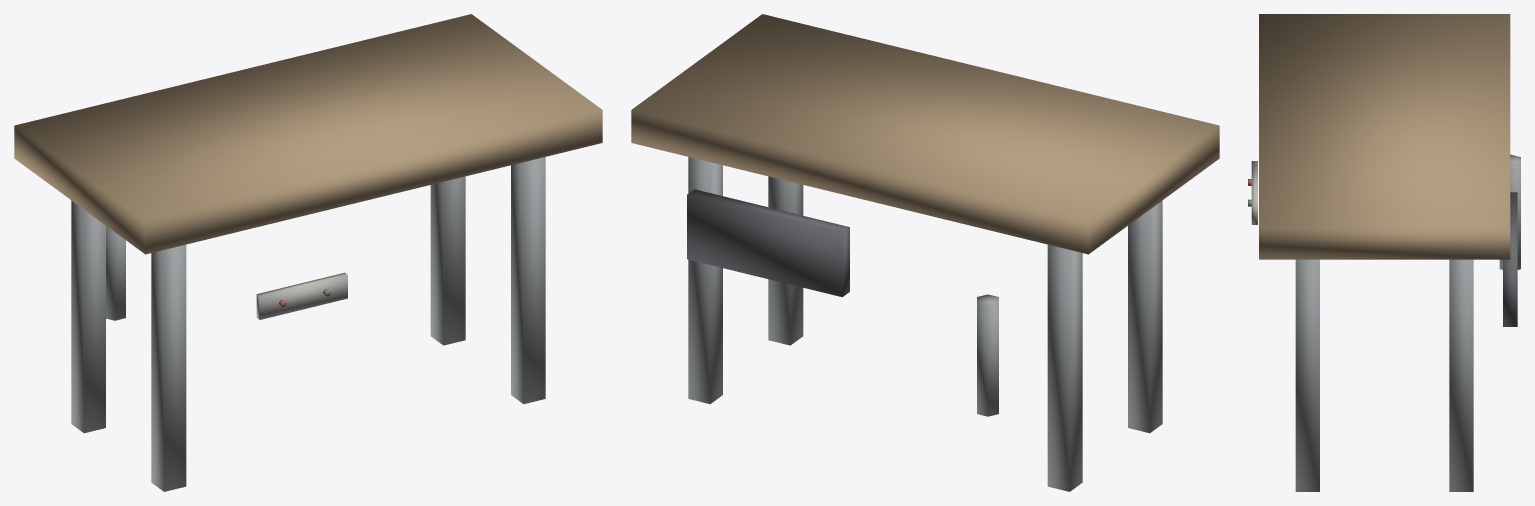
Rendered from workbench__service.glb.
3 renders of one model, left to right at view 1: azimuth 30°, elevation 25°; view 2: azimuth 150°, elevation 25°; view 3: azimuth 270°, elevation 25°, orthographic. The views are drawn at different scales.
Parts seen in each view (by area): view 1: world; view 2: world; view 3: world.
Boxes of the visible parts, left/top/right/bottom form: world: left=14, top=14, right=602, bottom=491; world: left=631, top=14, right=1219, bottom=491; world: left=1248, top=14, right=1520, bottom=491.
Size of the model in its own units: 1.45 by 0.89 by 0.7813.
